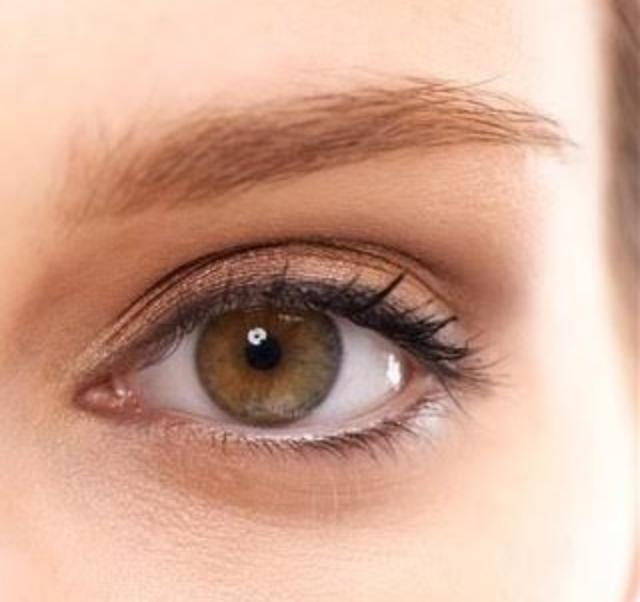eye: (200, 270, 344, 440)
